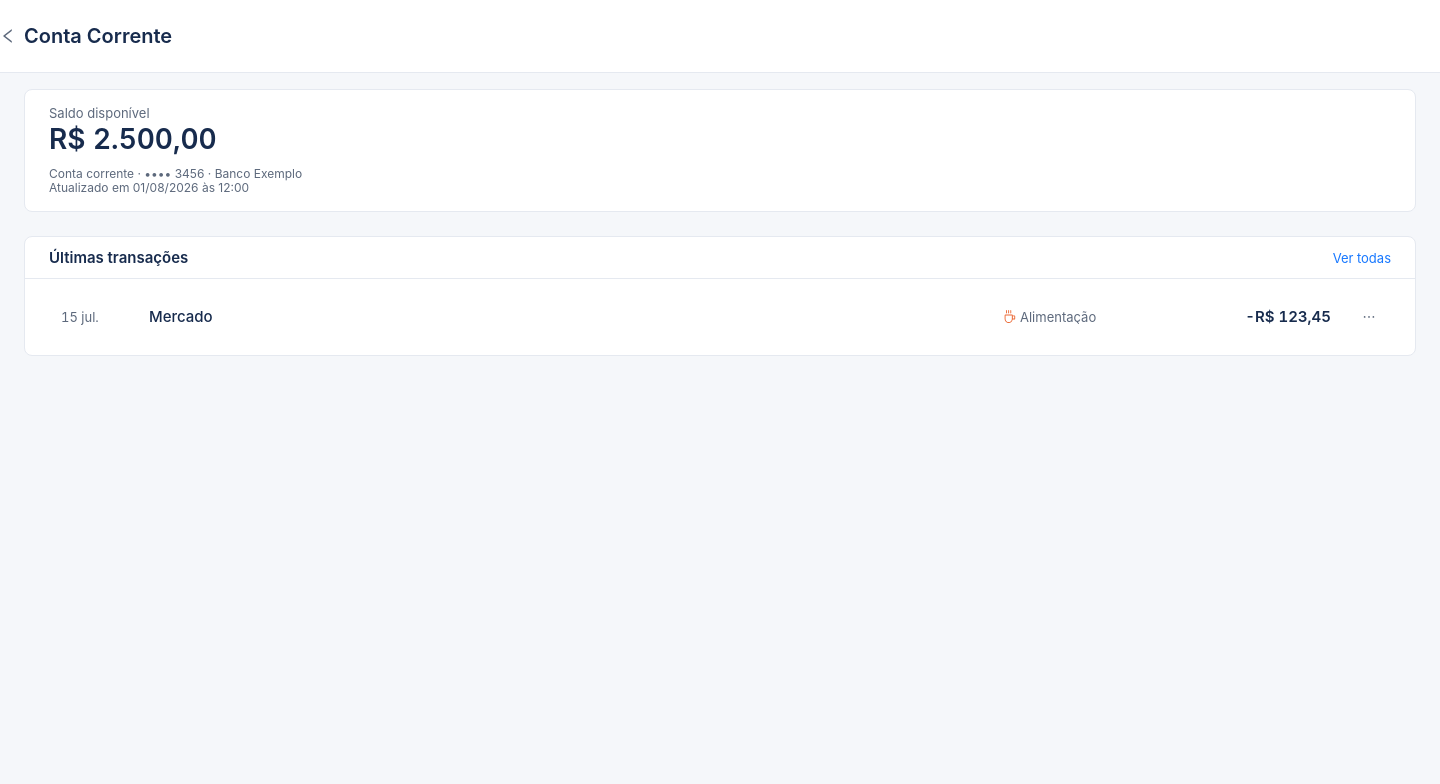
Test: AccountDetailPage › shows a failed category/inclusion write inside the panel, with a retry
What coordinates should you click on to do the following:
click the button with aria-label "Ver detalhes de Mercado"
I would click on:
 (181, 316)
Its box is [149,307,987,327].
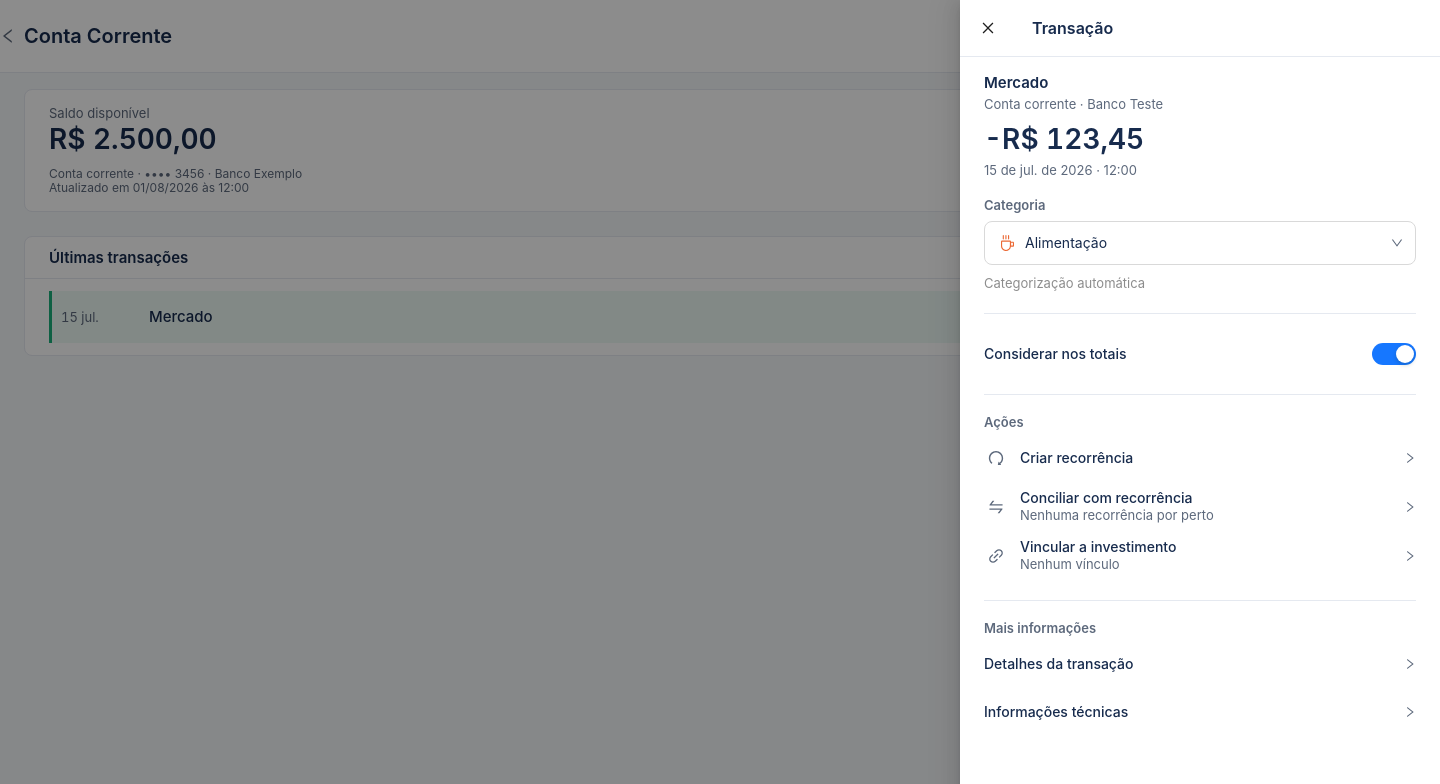
What coordinates should you click on to do the following:
click the switch named "Considerar nos totais"
I would click on:
 (1394, 354)
Its box is [1372,343,1416,365].
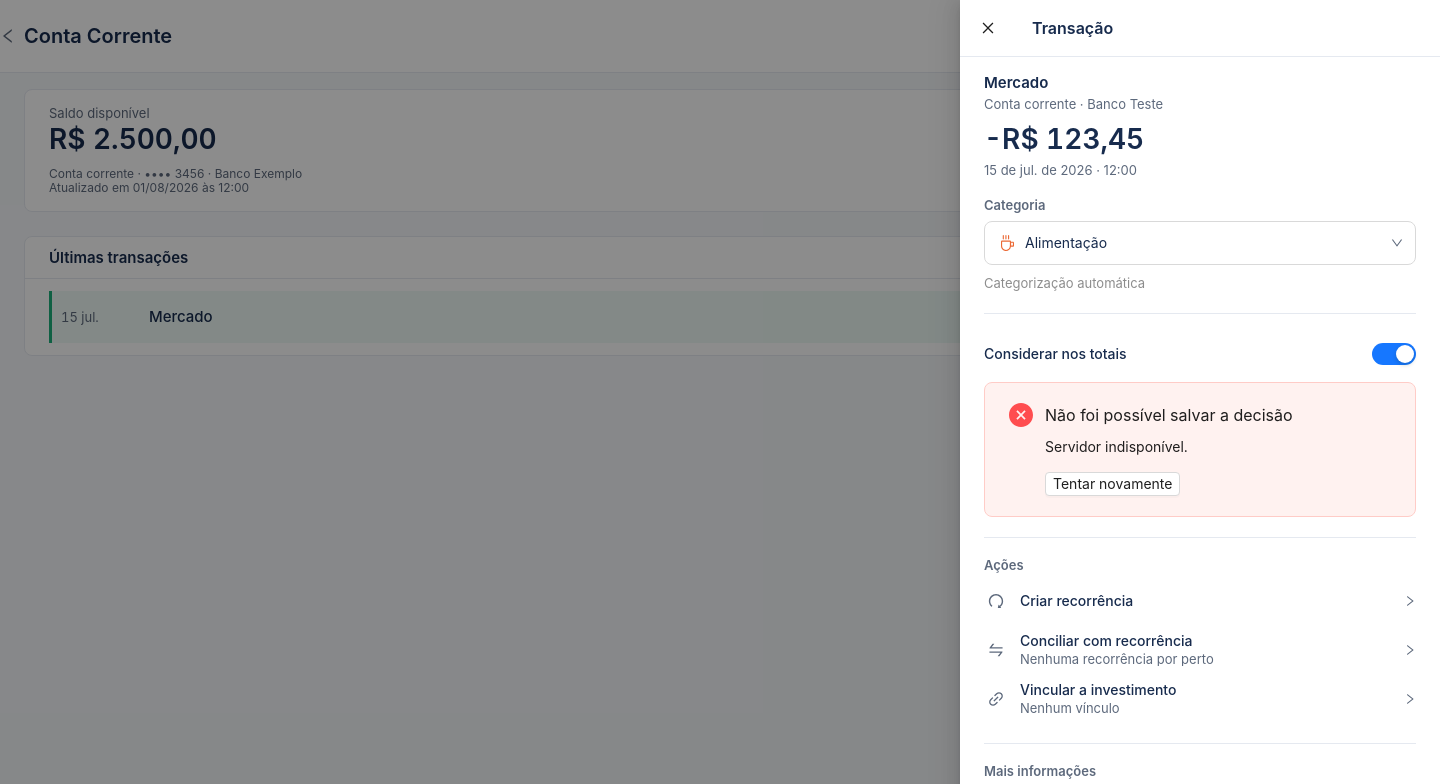
Check: the text "Não foi possível salvar a decisão" is shown, box [1045,405,1292,425]
Check: the button "Tentar novamente" is shown, box [1045,472,1180,496]
